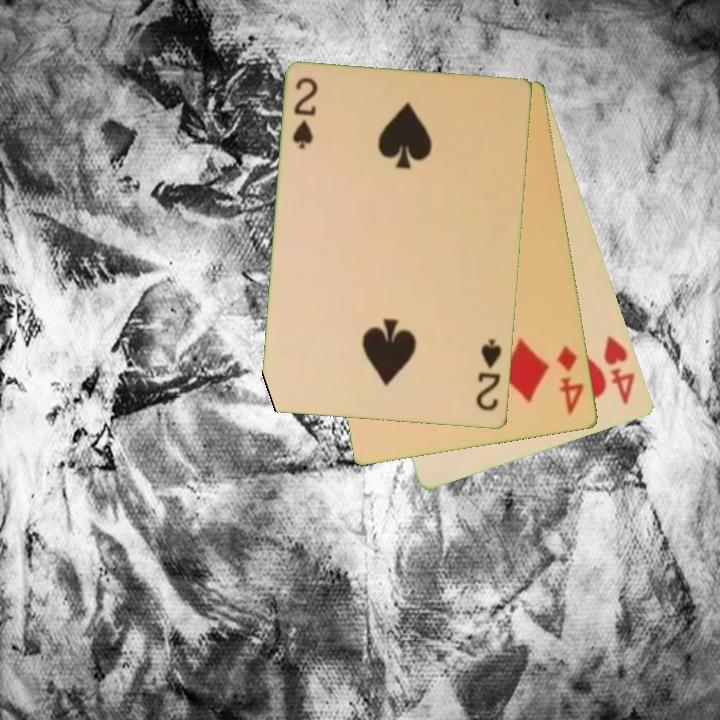2s: (473, 336, 505, 414), (289, 74, 321, 152)
4d: (554, 342, 587, 418)
4h: (600, 332, 639, 408)
